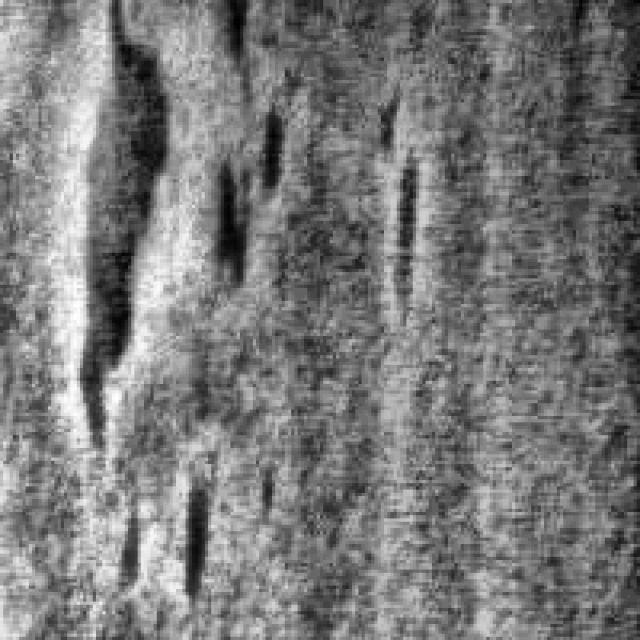Patches: (64, 0, 173, 454), (195, 0, 288, 285), (105, 464, 272, 602), (368, 80, 422, 320)
